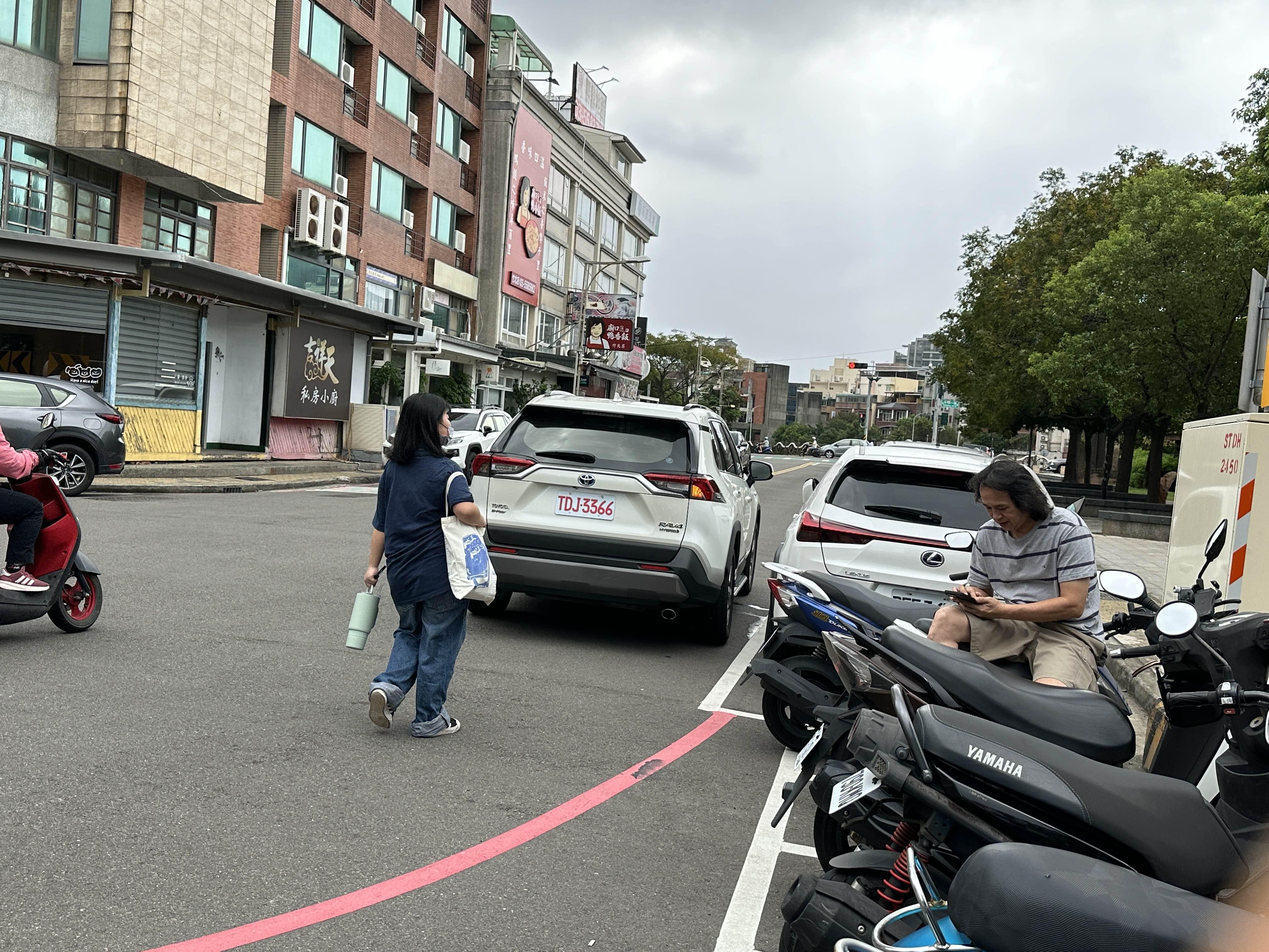NoHelmet: (974, 463, 1046, 532), (400, 392, 455, 452)
NoVest: (384, 458, 466, 584)
